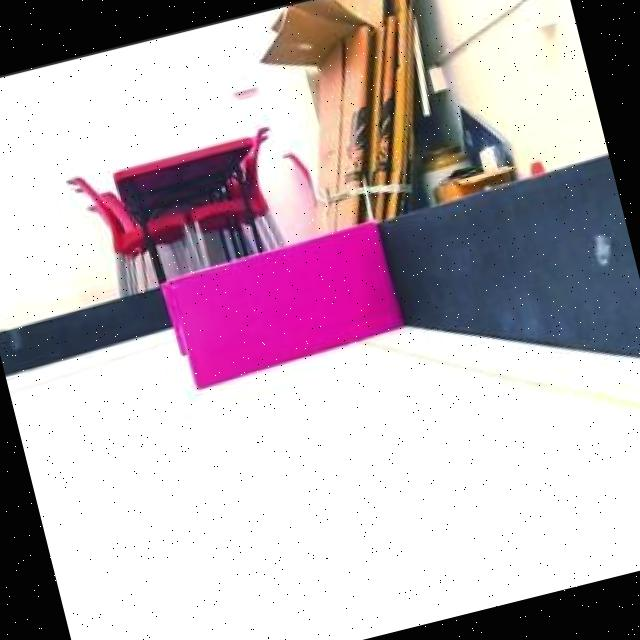xparking: (155, 217, 408, 390)
